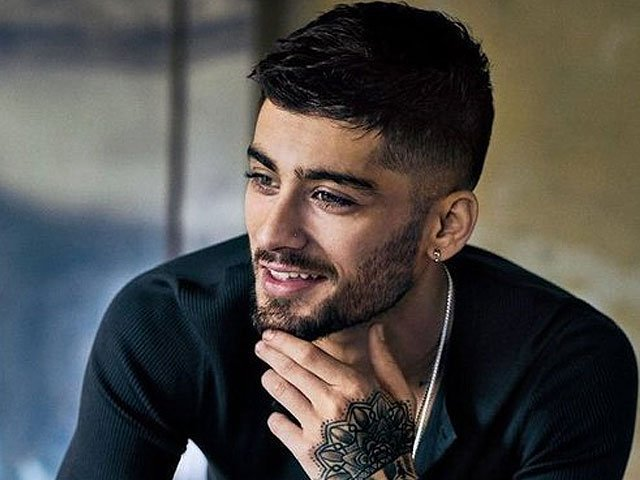noMask: (224, 7, 534, 329)
